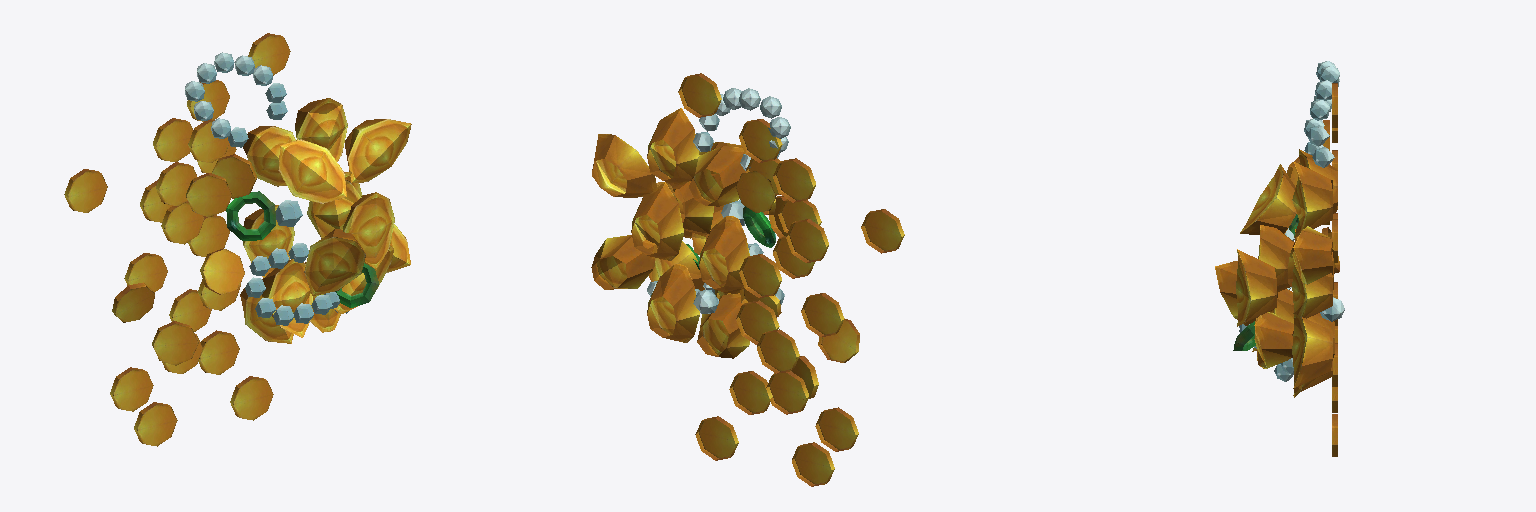
3 renders of one model, left to right at view 1: azimuth 30°, elevation 25°; view 2: azimuth 150°, elevation 25°; view 3: azimuth 270°, elevation 25°, orthographic.
Visible parts, largest first — view 1: Mdrop_M_10001_Mdrop_T_10001_0; view 2: Mdrop_M_10001_Mdrop_T_10001_0; view 3: Mdrop_M_10001_Mdrop_T_10001_0.
Part boxes in pixels (bbox=[...]): Mdrop_M_10001_Mdrop_T_10001_0: bbox=[64, 33, 411, 446]; Mdrop_M_10001_Mdrop_T_10001_0: bbox=[591, 73, 904, 486]; Mdrop_M_10001_Mdrop_T_10001_0: bbox=[1215, 61, 1344, 456].
Bounding box in the file's own units: 10.25 × 11.55 × 3.56.
1 materials, 1 textured.